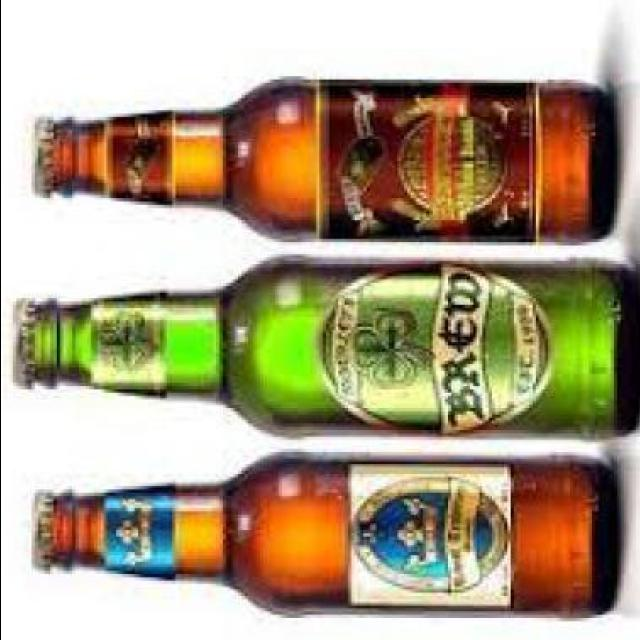kaca: (27, 261, 638, 442), (46, 455, 613, 618), (46, 85, 613, 247)
